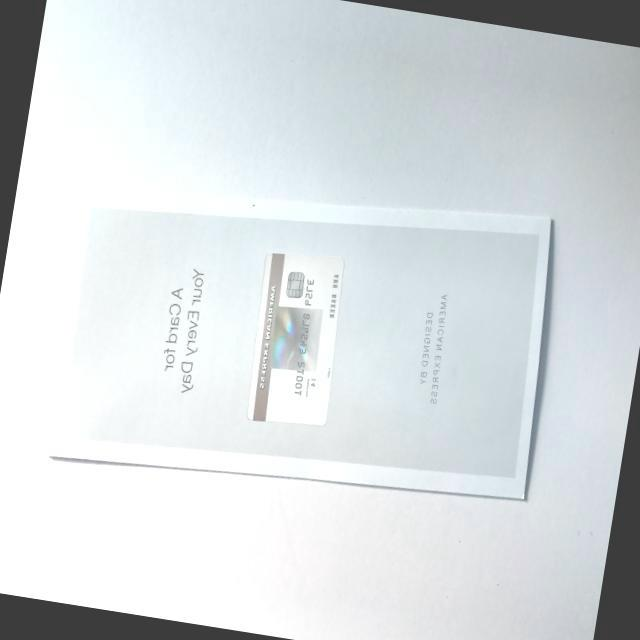paper: (14, 123, 592, 538)
